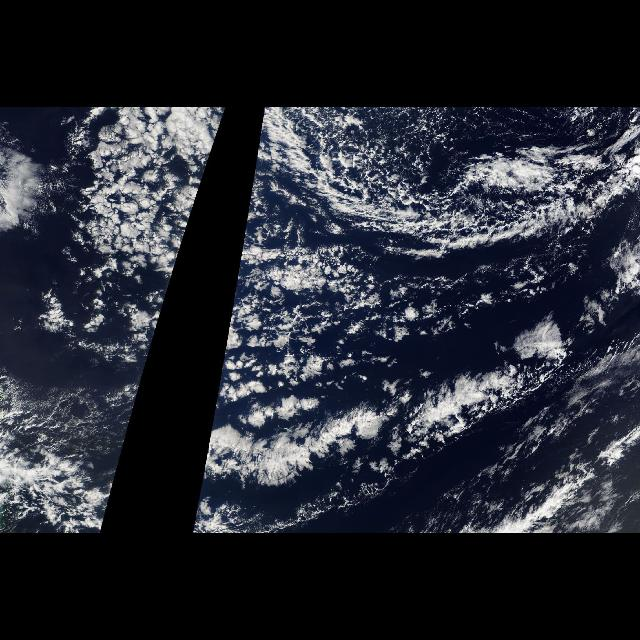Gravel: (300, 116, 550, 218)
